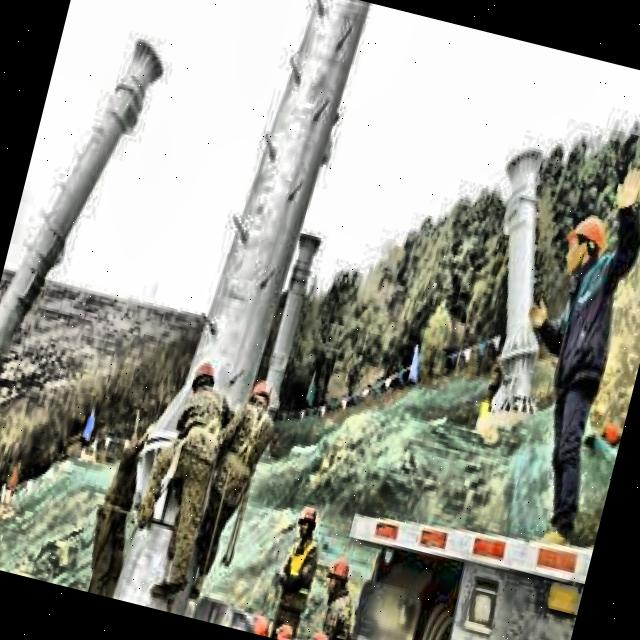helmet: (560, 208, 611, 279), (318, 553, 354, 603), (186, 356, 219, 408), (242, 374, 276, 420), (292, 500, 320, 542)
